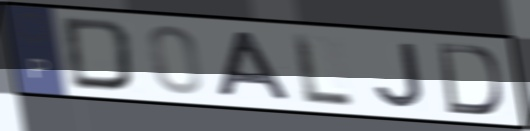0: (146, 23, 206, 97)
A: (216, 29, 296, 103)
D: (59, 15, 137, 94), (435, 40, 506, 117)
J: (372, 41, 429, 110)
L: (289, 30, 357, 107)
